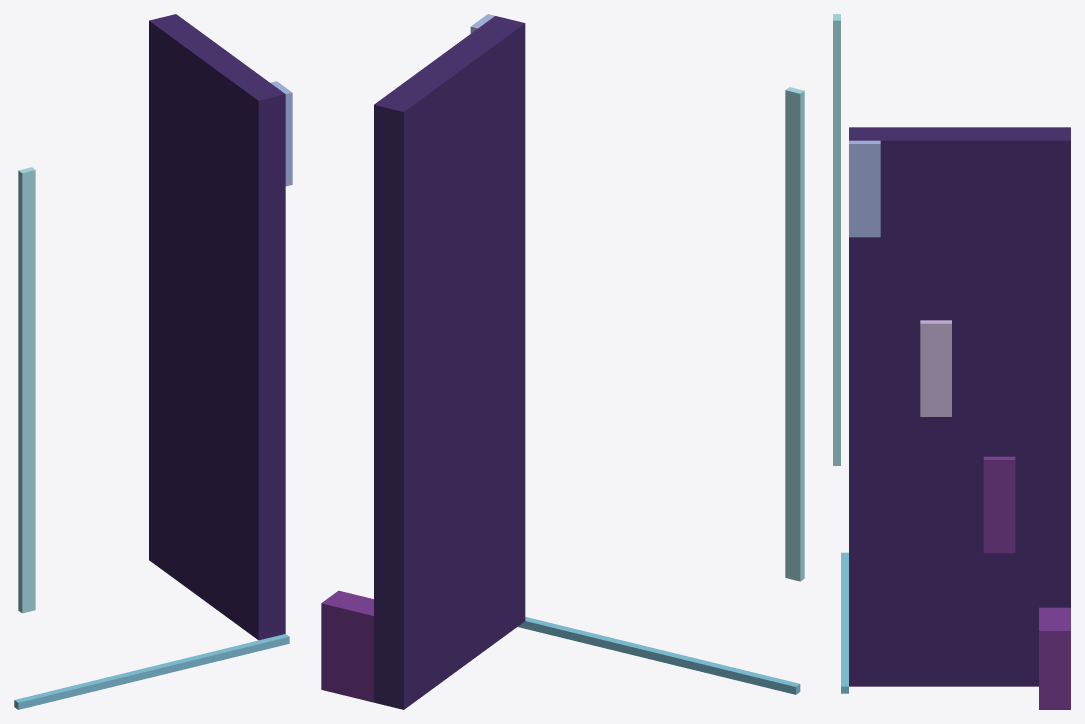
The model's file is tinker.obj.
3 views of the same model, side by side, from view 1: azimuth 30°, elevation 25°; view 2: azimuth 150°, elevation 25°; view 3: azimuth 270°, elevation 25° (orthographic). The views are drawn at different scales.
Parts seen in each view (by area): view 1: group_0_4796018, group_0_11593968, group_0_8768998, group_0_11452141; view 2: group_0_4796018, group_0_11593968, group_0_8273817, group_0_8768998; view 3: group_0_4796018, group_0_11593968, group_0_8273817, group_0_8273816, group_0_11452141, group_0_13877221, group_0_8768998.
Boxes of the visible parts, x1,y1,x2,y2 form: group_0_4796018: (149, 14, 285, 640); group_0_11593968: (18, 167, 35, 613); group_0_8768998: (14, 634, 289, 709); group_0_11452141: (270, 81, 292, 186); group_0_4796018: (374, 16, 525, 709); group_0_11593968: (785, 87, 804, 581); group_0_8273817: (321, 590, 373, 702); group_0_8768998: (518, 617, 800, 694); group_0_4796018: (849, 127, 1070, 686); group_0_11593968: (833, 14, 840, 465); group_0_8273817: (1039, 607, 1070, 709); group_0_8273816: (983, 456, 1015, 553); group_0_11452141: (849, 140, 880, 237); group_0_13877221: (920, 320, 951, 416); group_0_8768998: (841, 552, 848, 693).
Size of the model in its own units: 11.75 by 19.25 by 7.5.
